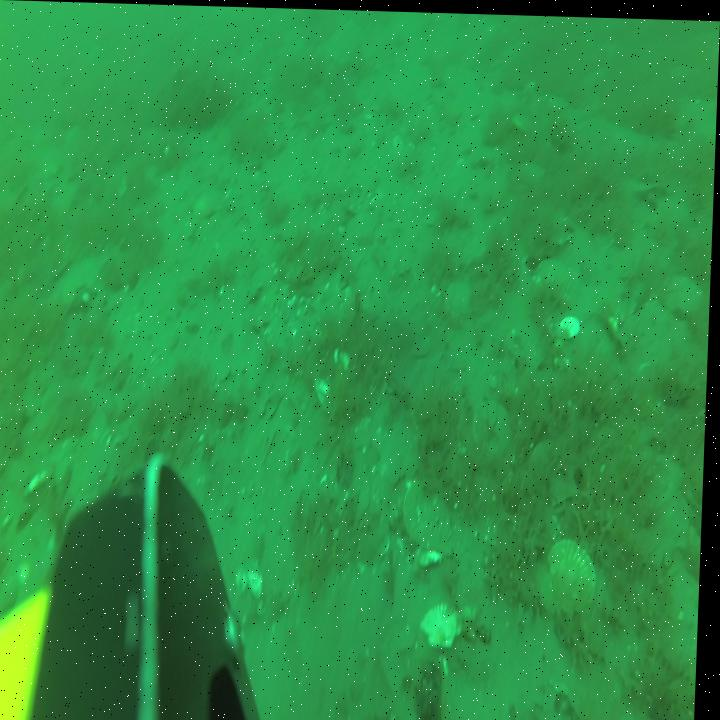scallop: (403, 469, 460, 551), (550, 527, 603, 611), (528, 432, 588, 505), (662, 260, 706, 314), (422, 598, 469, 648), (444, 272, 483, 322), (534, 250, 571, 296), (421, 191, 460, 229), (192, 184, 229, 220), (349, 206, 382, 241)
